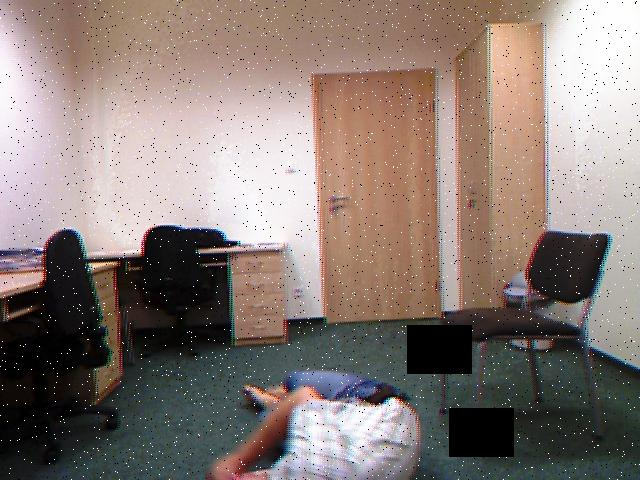fall: (203, 370, 420, 479)
